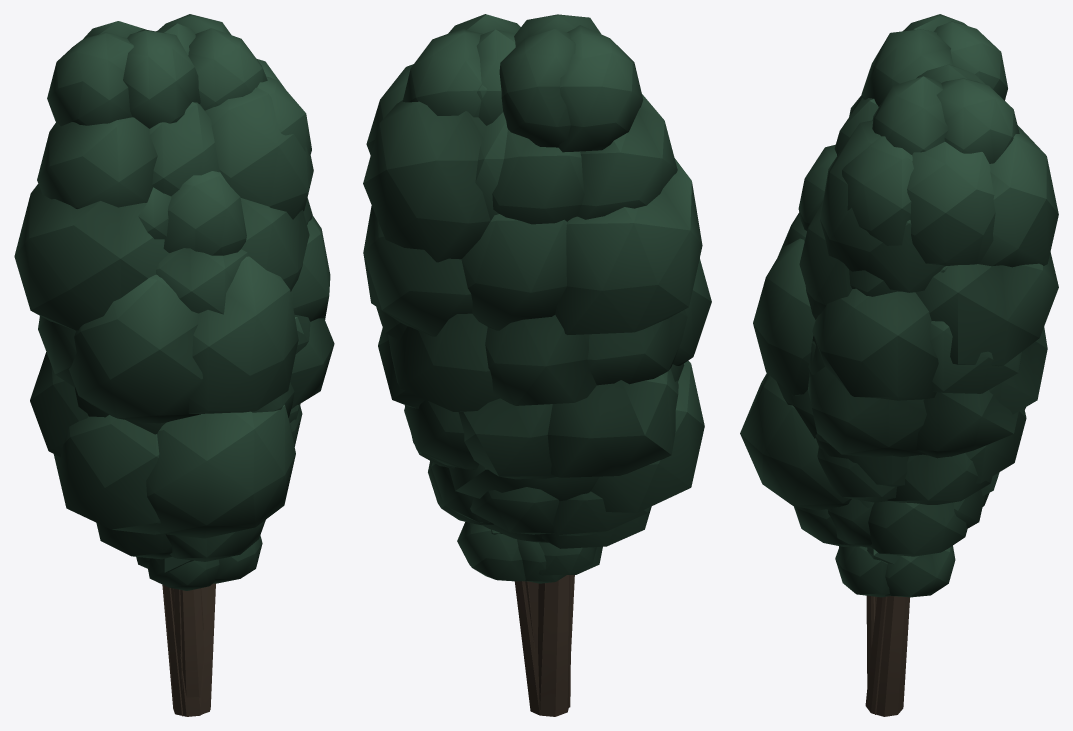
Rendered from arbol_cipres.glb.
3 views of the same model, side by side, from view 1: azimuth 30°, elevation 25°; view 2: azimuth 150°, elevation 25°; view 3: azimuth 270°, elevation 25° (orthographic). The views are drawn at different scales.
Visible parts, largest first — view 1: hd_1, hd_3, hd_2, hd_0, hd_1_trunk, hd_3_trunk, hd_0_trunk; view 2: hd_3, hd_2, hd_1, hd_0, hd_3_trunk, hd_0_trunk, hd_2_trunk; view 3: hd_0, hd_2, hd_1, hd_3, hd_0_trunk, hd_1_trunk.
Boxes of the visible parts, <box> form: hd_1: <box>53,171,298,590</box>; hd_3: <box>14,21,219,568</box>; hd_2: <box>156,14,313,422</box>; hd_0: <box>213,59,334,583</box>; hd_1_trunk: <box>174,588,204,716</box>; hd_3_trunk: <box>162,584,200,716</box>; hd_0_trunk: <box>187,583,215,714</box>; hd_3: <box>458,14,702,575</box>; hd_2: <box>363,14,520,522</box>; hd_1: <box>449,258,711,574</box>; hd_0: <box>366,64,566,583</box>; hd_3_trunk: <box>538,575,569,716</box>; hd_0_trunk: <box>514,581,552,715</box>; hd_2_trunk: <box>525,581,538,648</box>; hd_0: <box>808,136,1021,597</box>; hd_2: <box>799,64,1058,528</box>; hd_1: <box>740,144,999,547</box>; hd_3: <box>834,14,1025,506</box>; hd_0_trunk: <box>865,596,909,716</box>; hd_1_trunk: <box>866,595,877,687</box>.
Bounding box in the file's own units: 2.52 × 5.7 × 2.47.
